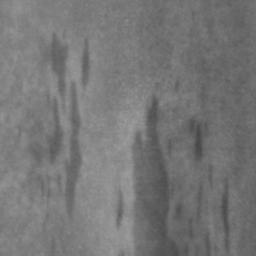Inclusion: (132, 95, 178, 256), (50, 35, 83, 211), (49, 100, 64, 164), (221, 183, 232, 237), (82, 40, 90, 87), (116, 192, 124, 229), (196, 127, 204, 156)
